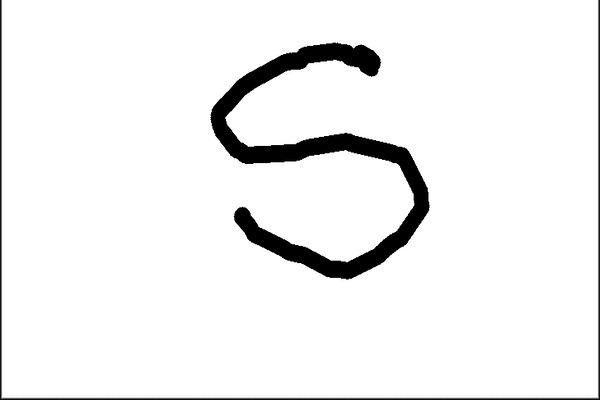S: (203, 35, 434, 284)
